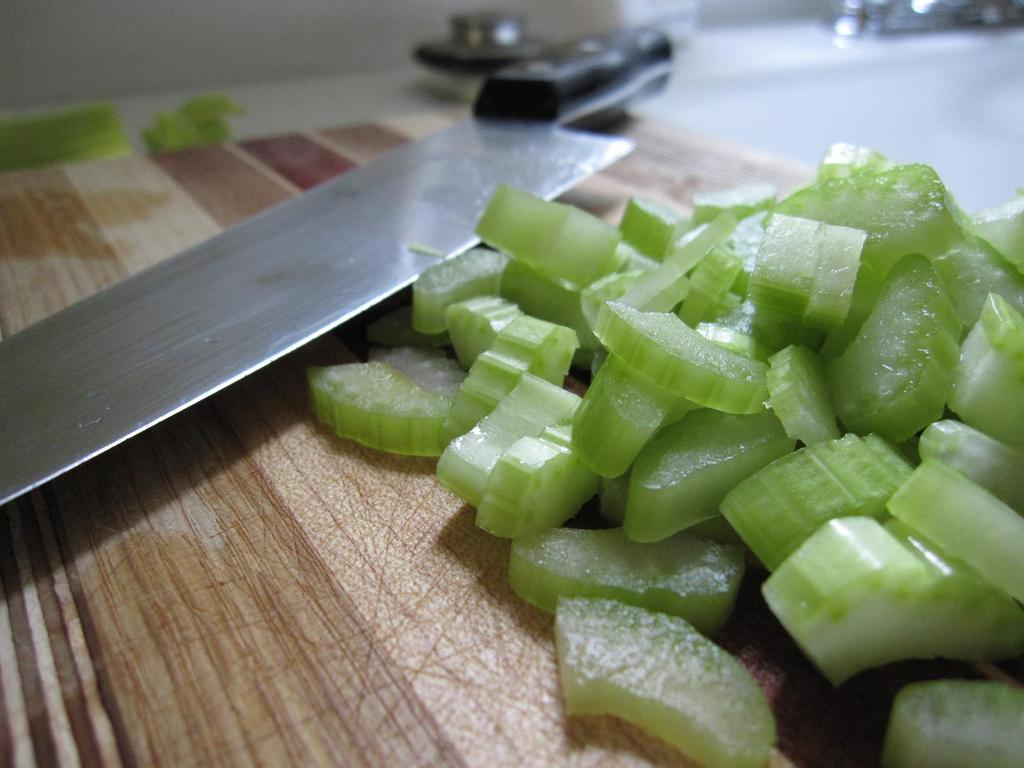kitchen knife: (0, 26, 675, 506)
